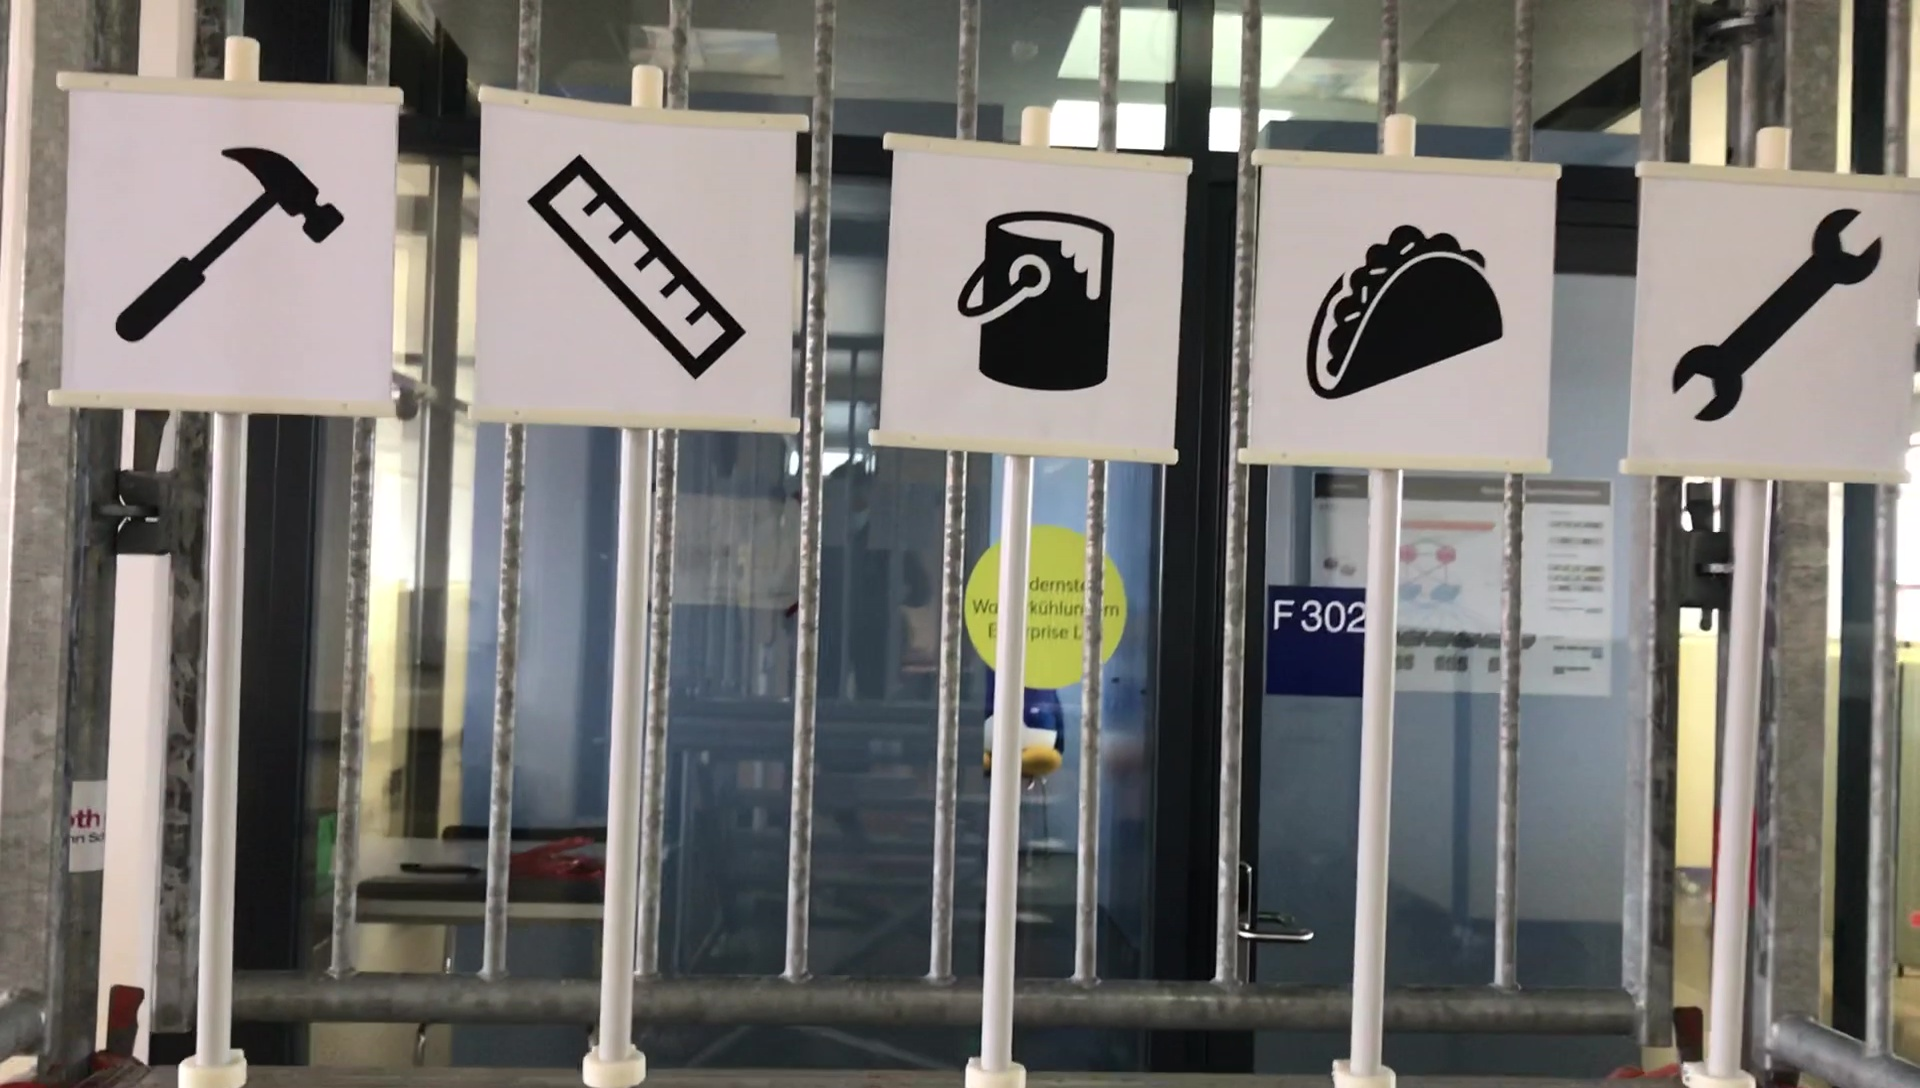bucket: (945, 204, 1124, 400)
hammer: (109, 138, 352, 351)
ruler: (512, 146, 753, 392)
taco: (1302, 208, 1509, 401)
wrench: (1664, 198, 1904, 430)
